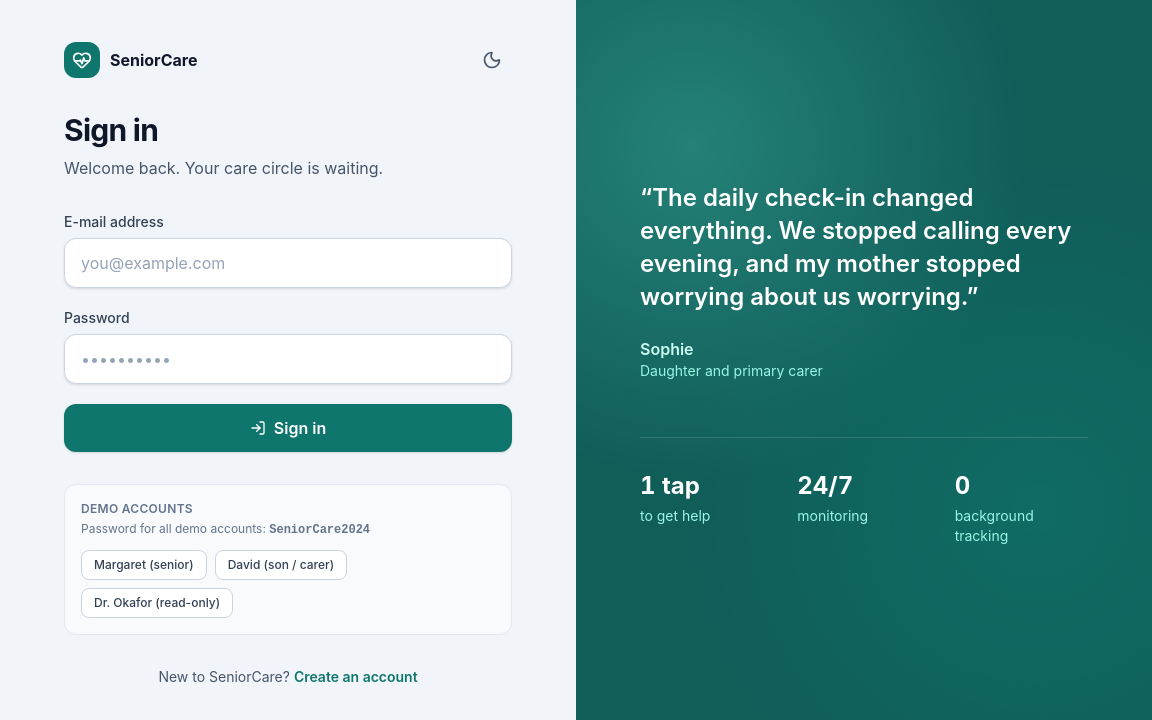
Test: Login form › requires an e-mail address and a password
Step 1. Click the button "Sign in" → click(288, 428), box [64,404,512,452]
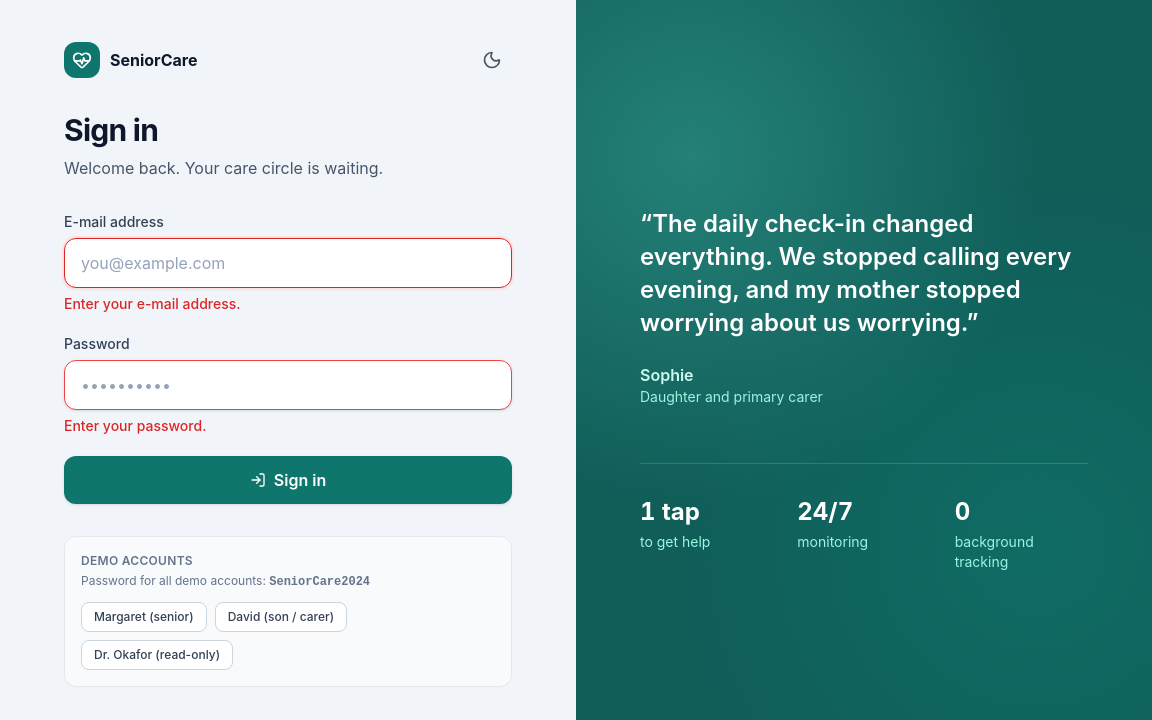
expect the text "Enter your e-mail address." is shown: met, box [64,295,240,312]
expect the text "Enter your password." is shown: met, box [64,417,206,434]
